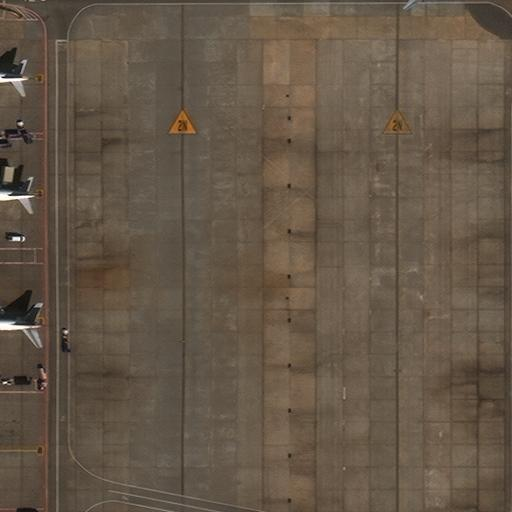Large Civil Transport: (0, 293, 41, 355)
